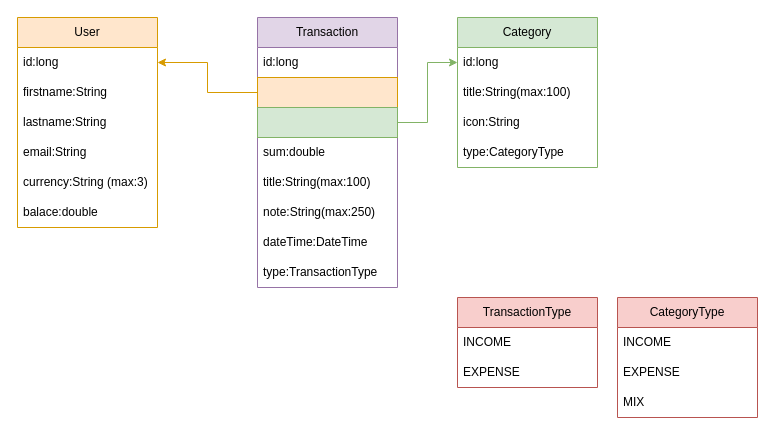
Image size: 775x435. Some labels were removed from this diagram. The centre of each missing label's shape, as x and y in pixels:
"categoryId:long" belongs at pixel 327 122.
"userId:long" belongs at pixel 327 92.
